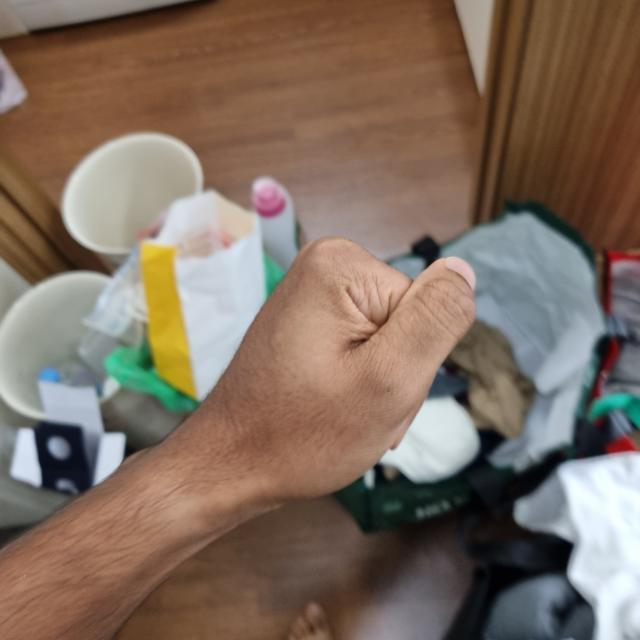Rock: (194, 237, 476, 495)
